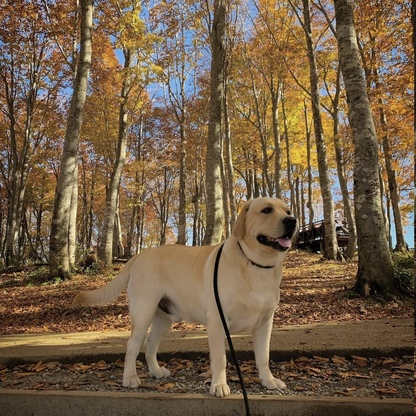labrado: (67, 195, 298, 401)
